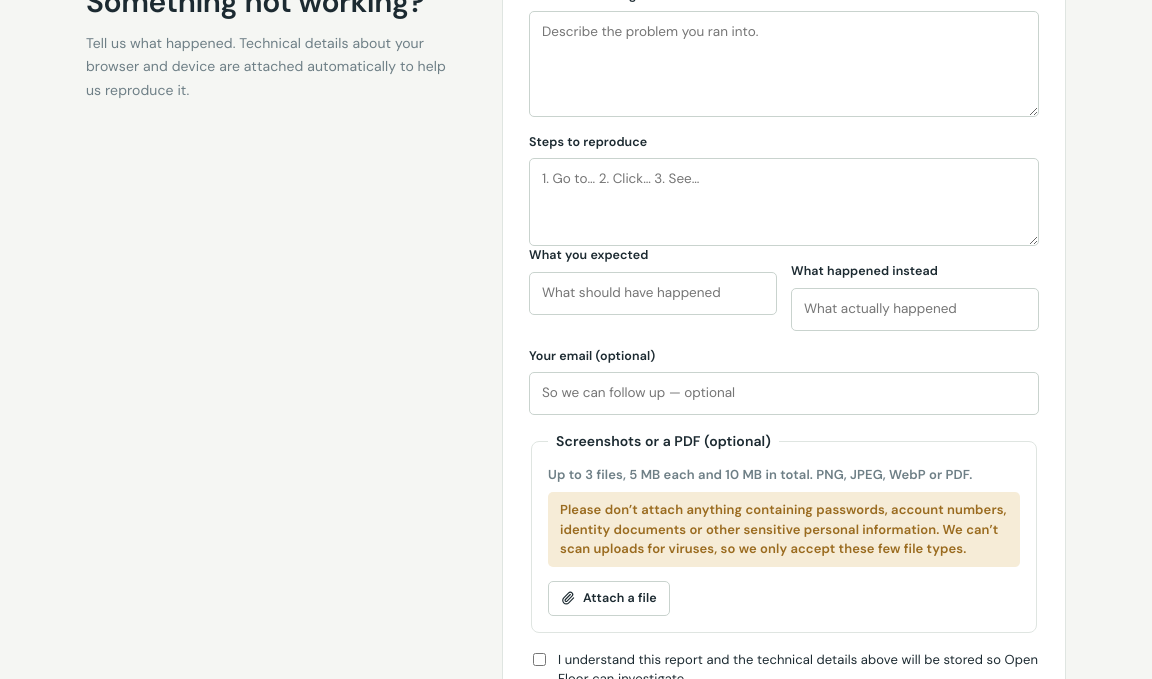
ReportBugPage attachments › surfaces a server-side attachment rejection against the file field, not the whole report
The image size is (1152, 679).
Type "The filter chips overlap the header." into the text box with placeholder "Describe the problem you ran into.".
click(784, 64); type("The filter chips overlap the header.")  # box [529, 11, 1039, 117]
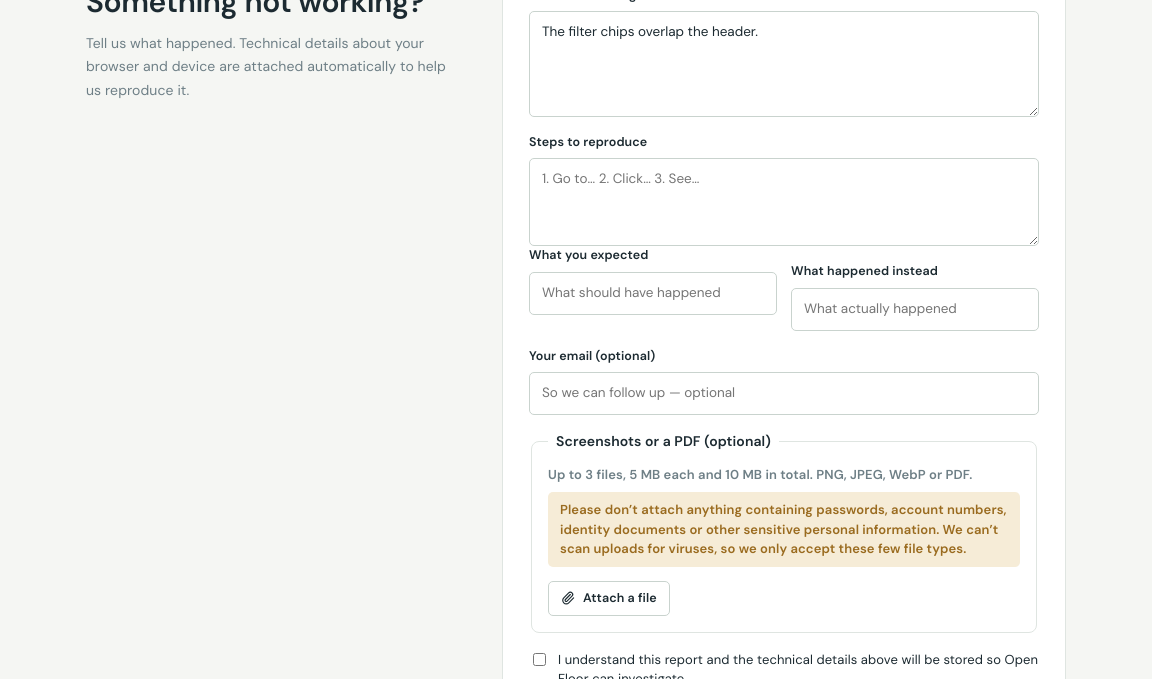
Click the checkbox.
click(540, 660)  # box [533, 653, 546, 666]
(page scrolled)
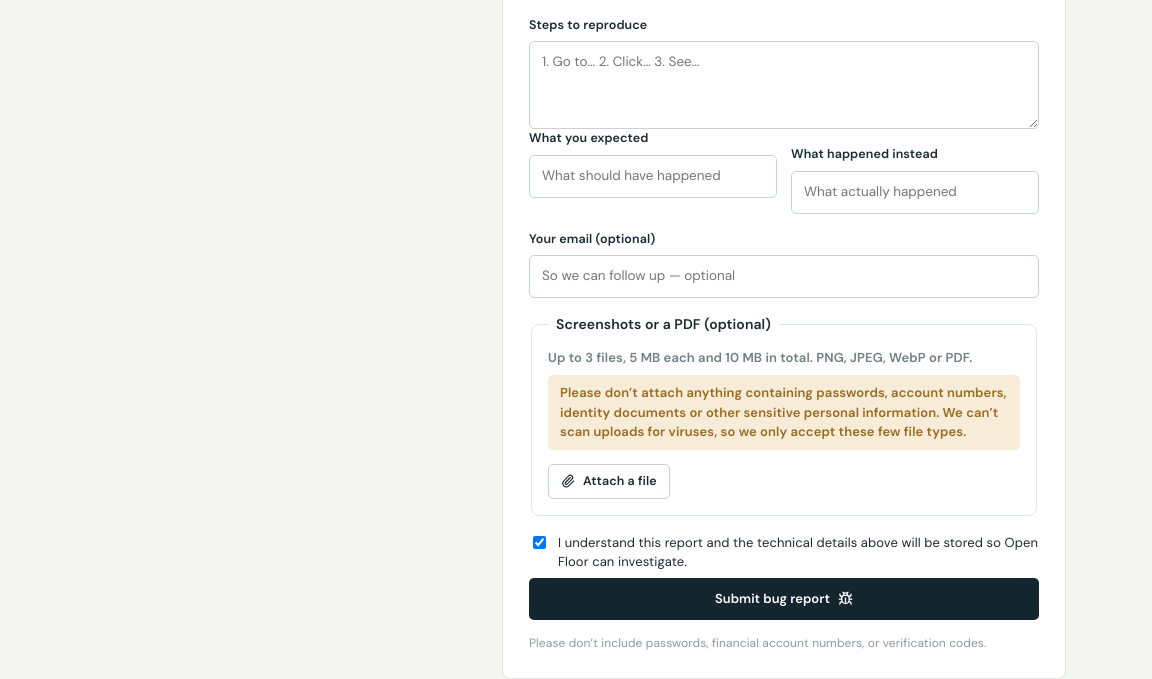
Click the button "Submit bug report".
click(784, 599)  # box [529, 578, 1039, 620]
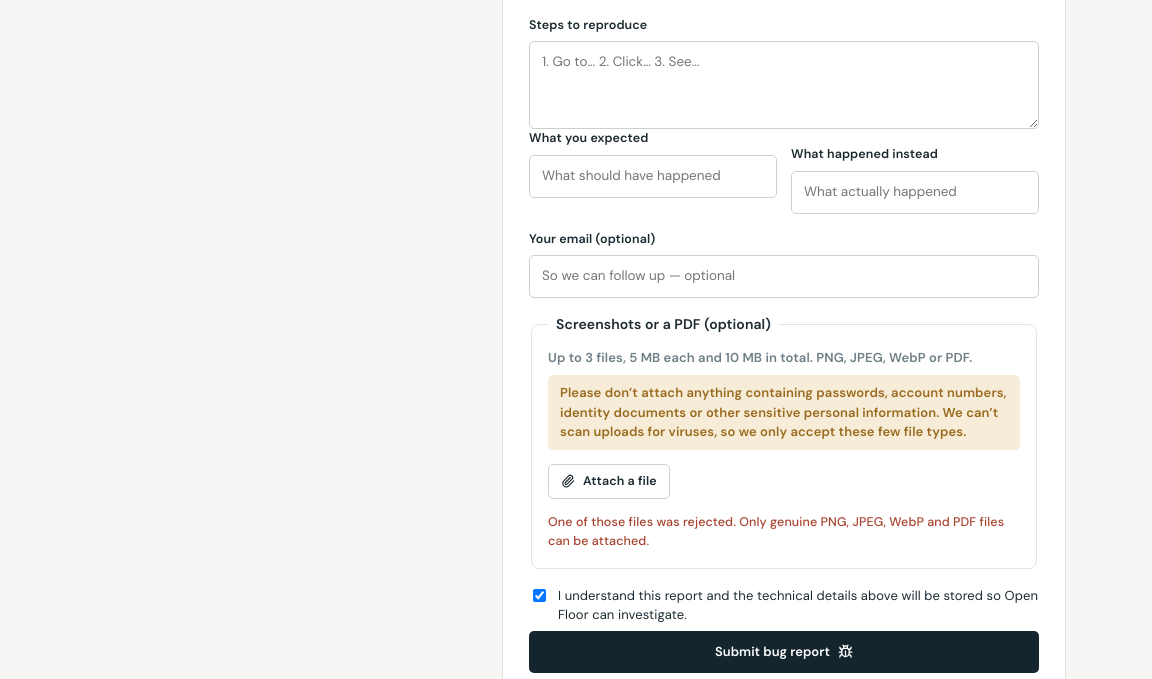
Expected: the text "Only genuine PNG, JPEG, WebP and PDF files" is shown, [548, 514, 1004, 550]
